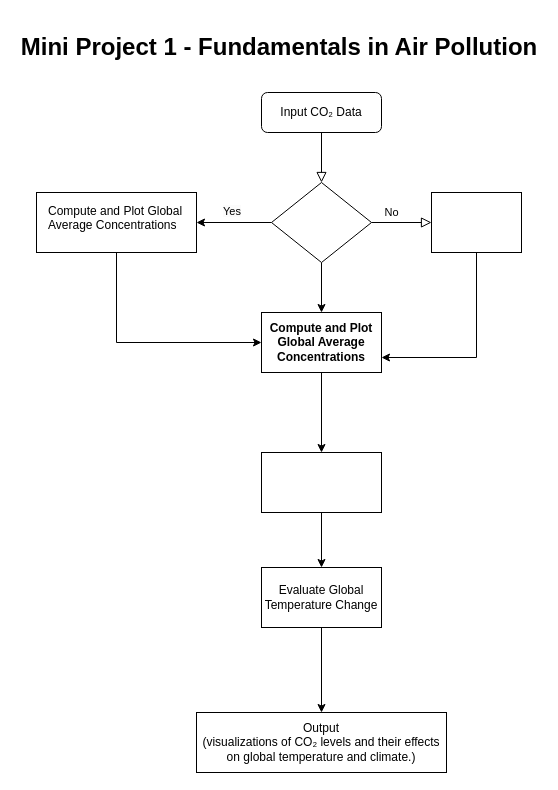
The diagram is 558 pixels wide and 790 high, and some of its shapes have lost their labels. The centre of each missing label's shape, as x and y in pixels:
Assess Heat Transport Efficiency: point (321, 482)
Check CO₂ Stability: point (321, 222)
Increase CO₂ Levels (x2): point (476, 222)
